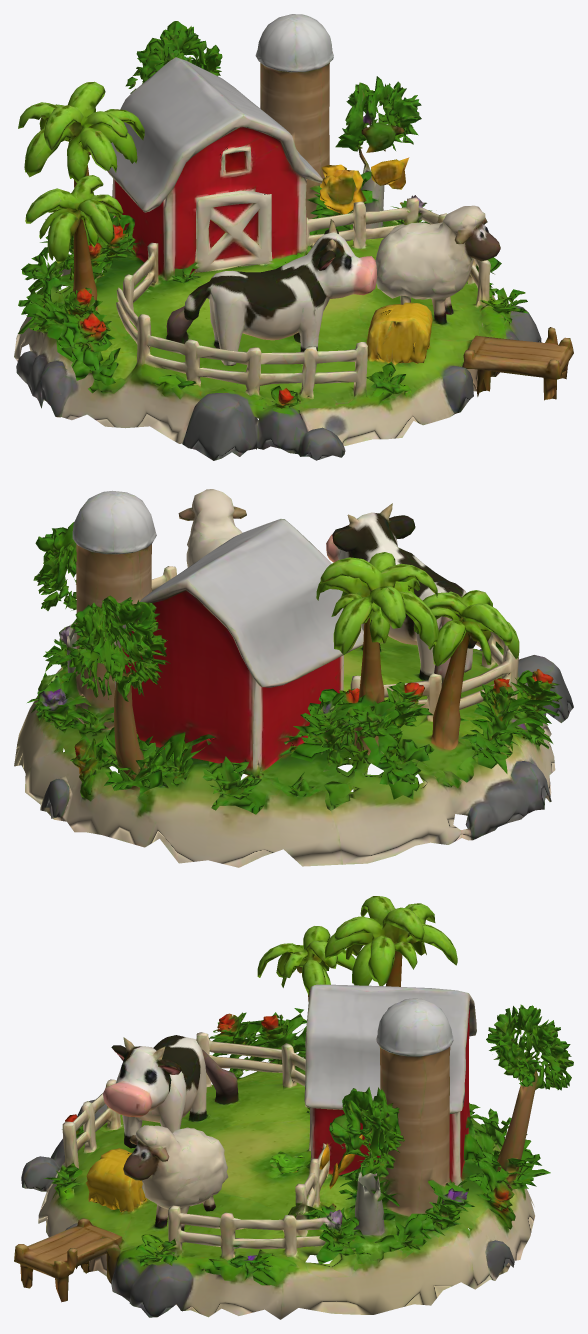
The model's file is isl-04.glb.
3 views of the same model, one above another, from view 1: azimuth 30°, elevation 25°; view 2: azimuth 150°, elevation 25°; view 3: azimuth 270°, elevation 25° (orthographic). The views are drawn at different scales.
Visible parts, largest first — view 1: world; view 2: world; view 3: world.
Part boxes in pixels (left/top/right/bottom): world: left=14, top=14, right=573, bottom=460; world: left=14, top=489, right=573, bottom=867; world: left=14, top=896, right=573, bottom=1319.
Bounding box in the file's own units: 0.9089 × 0.5199 × 0.9911.
Materials: 1 (1 with a texture image).
